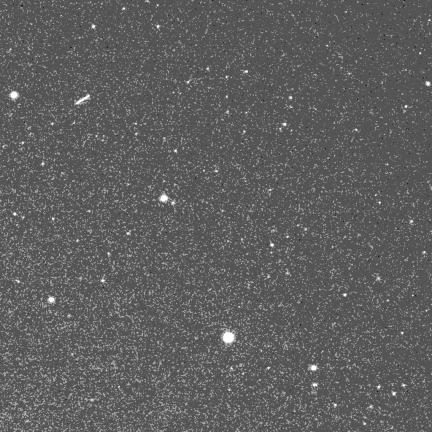blob: (223, 332, 234, 343), (10, 91, 18, 99), (160, 194, 168, 202), (49, 297, 56, 304), (311, 365, 317, 370), (377, 385, 381, 390), (426, 81, 430, 86), (343, 293, 348, 297), (422, 251, 427, 255), (313, 383, 318, 387), (270, 243, 274, 247), (101, 279, 105, 283), (392, 391, 396, 395), (402, 384, 406, 388), (90, 398, 94, 402), (355, 129, 359, 132), (244, 70, 248, 73), (334, 403, 337, 407), (405, 105, 408, 109), (283, 123, 286, 126), (92, 25, 95, 28), (289, 96, 292, 99)
